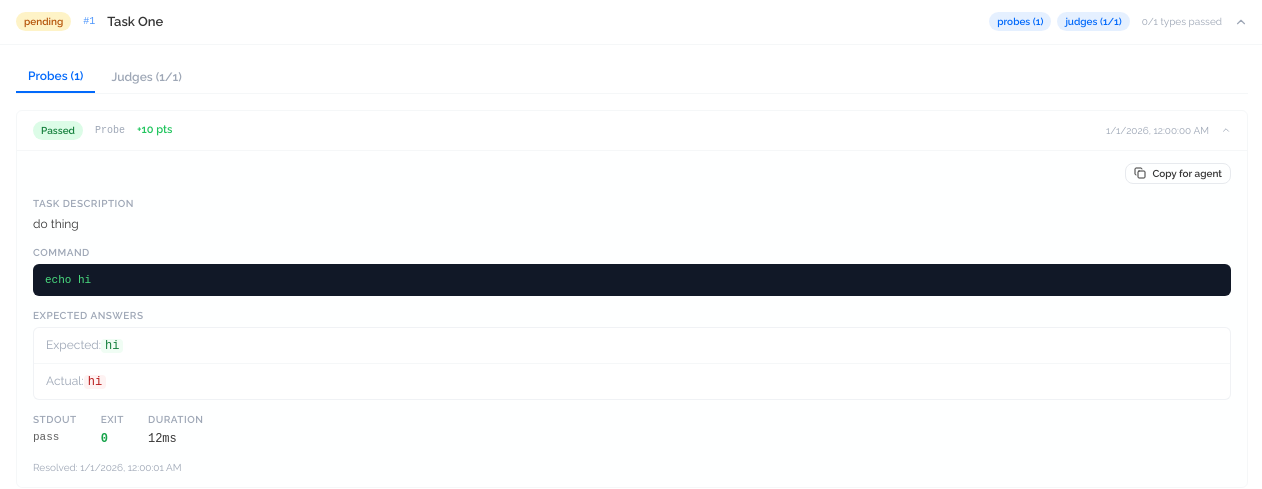
Test: PlayerTaskPanel › scored status row renders the verdict with rating and feedback
Click the tab with test id "tab-judges" at (147,76), box [99,60,194,92]
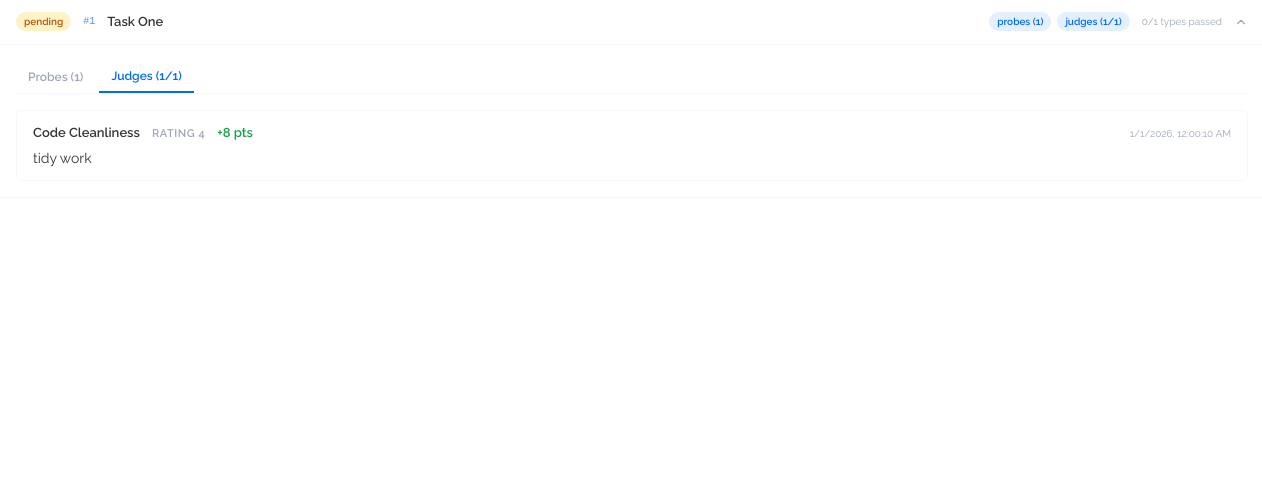
Result: the panel with test id "task-judges-1" shows "Rating 4" at [152,126,205,140]
Result: the panel with test id "task-judges-1" shows "+8 pts" at [217,124,253,140]
Result: the panel with test id "task-judges-1" shows "tidy work" at [33,150,92,166]
